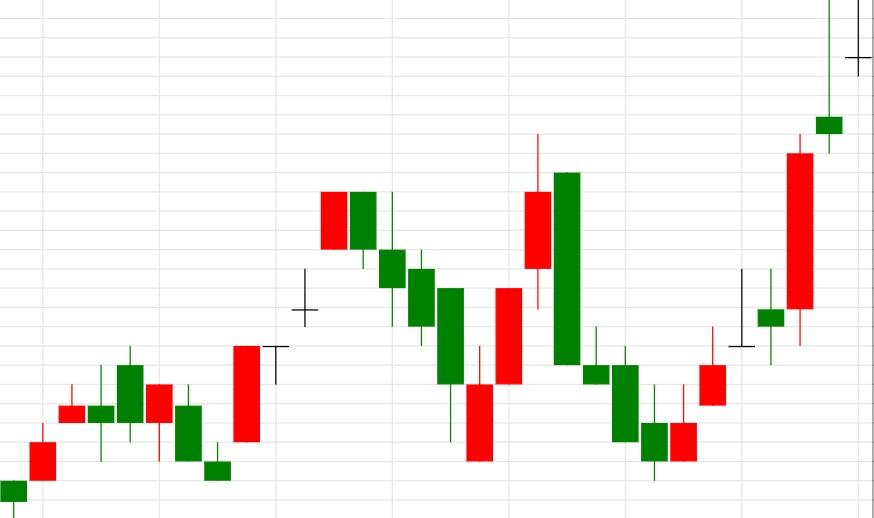three_white_soldiers_rise: (320, 133, 553, 461)
